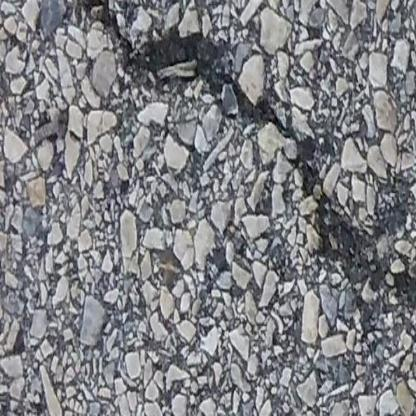Cracks: (57, 0, 416, 313)
